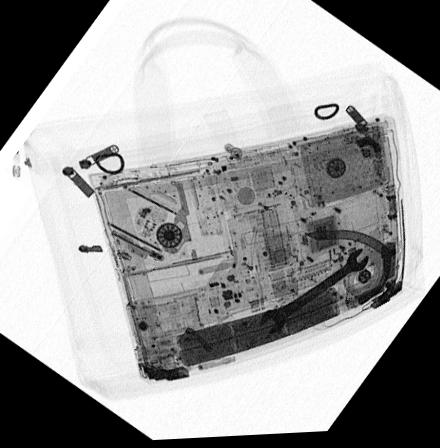Wrench: (254, 252, 369, 341)
